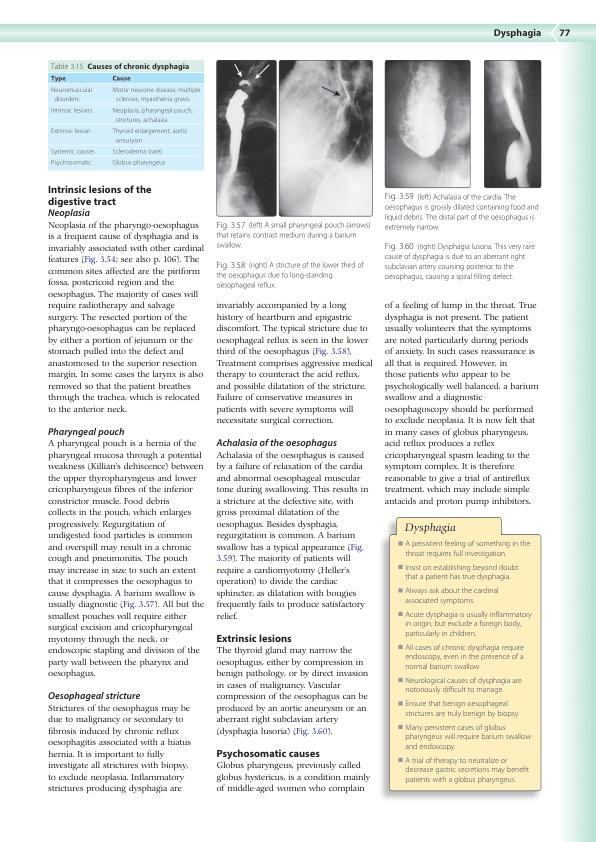caption: (384, 192, 540, 232), (384, 241, 536, 282), (216, 260, 365, 290), (216, 220, 370, 249), (50, 62, 190, 72), (404, 521, 457, 536)
header: (493, 27, 542, 39)
image: (278, 60, 374, 218), (384, 59, 471, 188), (215, 60, 277, 217), (483, 59, 542, 188)
list: (396, 539, 534, 785)
sub-section-heading: (47, 183, 153, 208), (215, 438, 338, 449), (216, 748, 321, 759), (47, 691, 142, 702), (47, 427, 124, 438), (216, 633, 293, 644), (47, 208, 90, 219)
table: (48, 72, 205, 171)
text: (46, 439, 205, 679), (383, 300, 539, 508), (47, 220, 204, 414), (215, 450, 369, 621), (215, 300, 374, 427), (215, 645, 369, 738), (47, 703, 191, 796), (215, 759, 372, 796)
